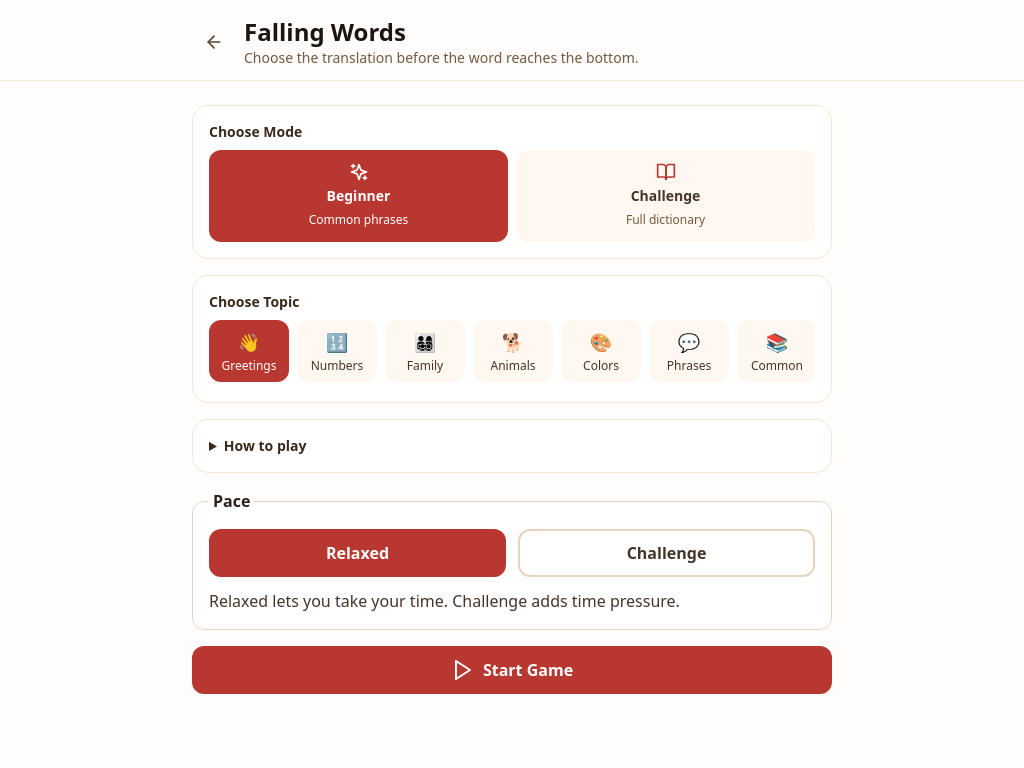
Test case: calm listening games › Falling Words keeps keyboard focus on the new answer choices after Next word
The image size is (1024, 768).
Later steps or results of the test are not shown.
Click the button "Start Game".
click(512, 670)  # box [192, 646, 832, 694]
(page scrolled)
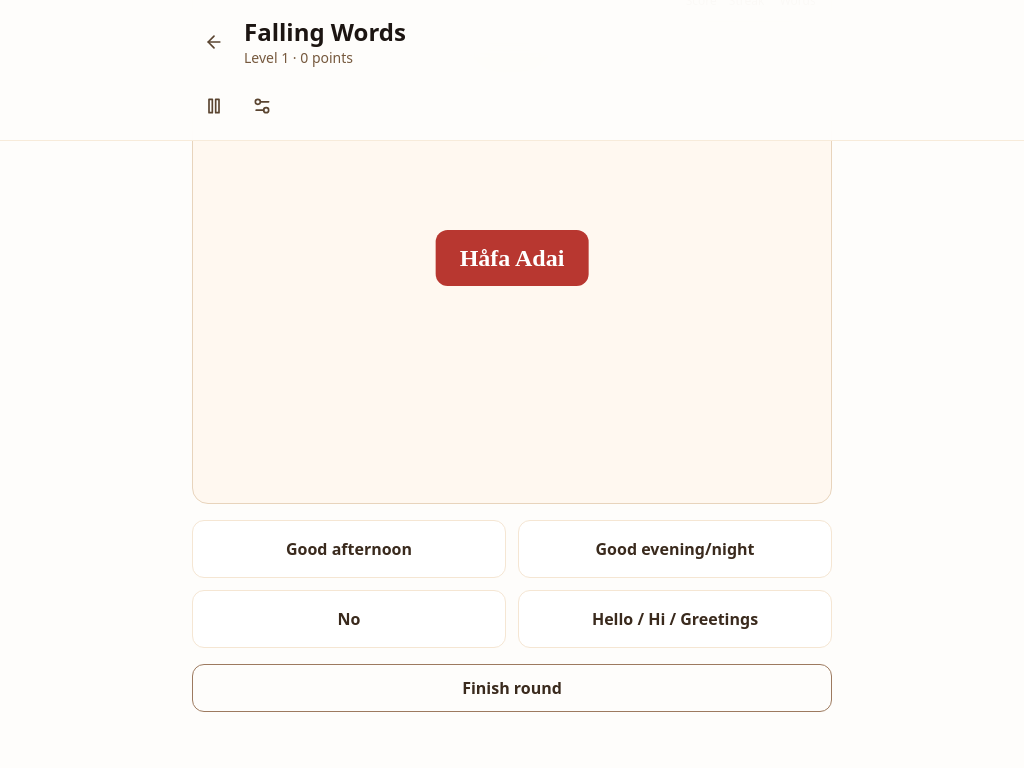
Now the button named "Pause game" is shown, box [192, 84, 236, 128]
